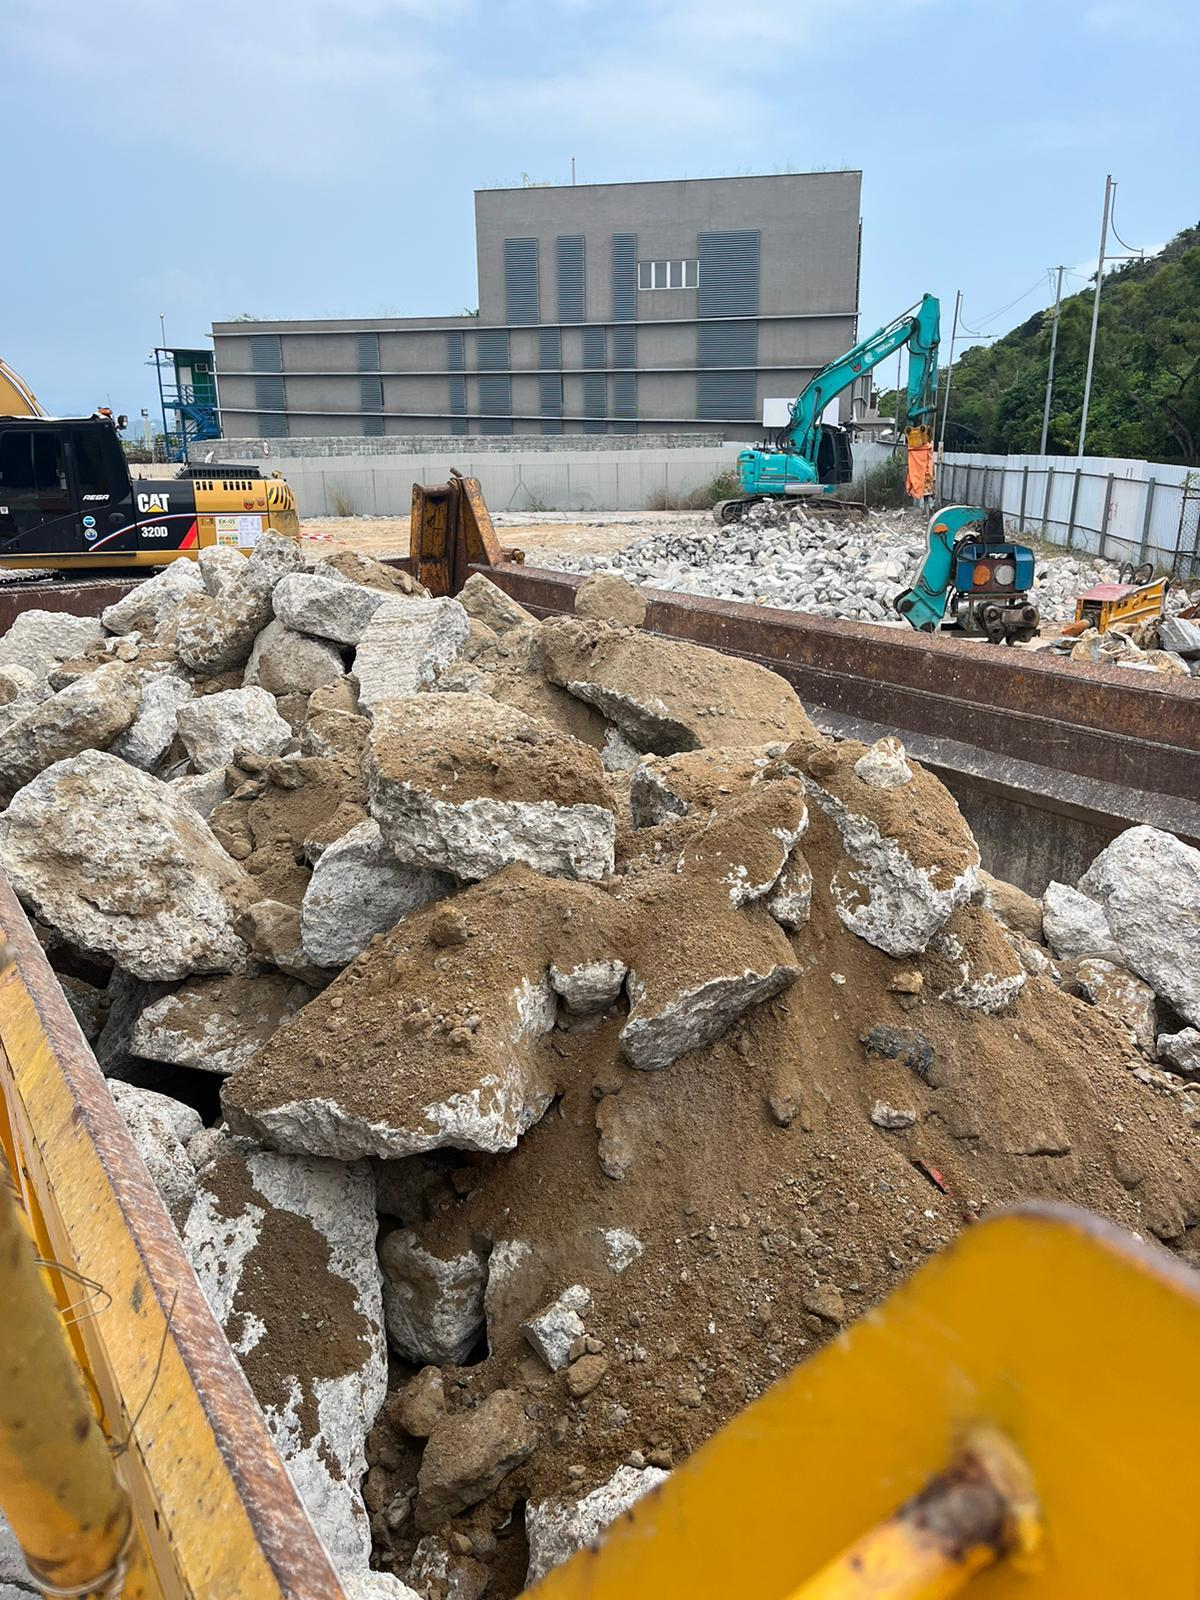dry: (35, 569, 1187, 1585)
